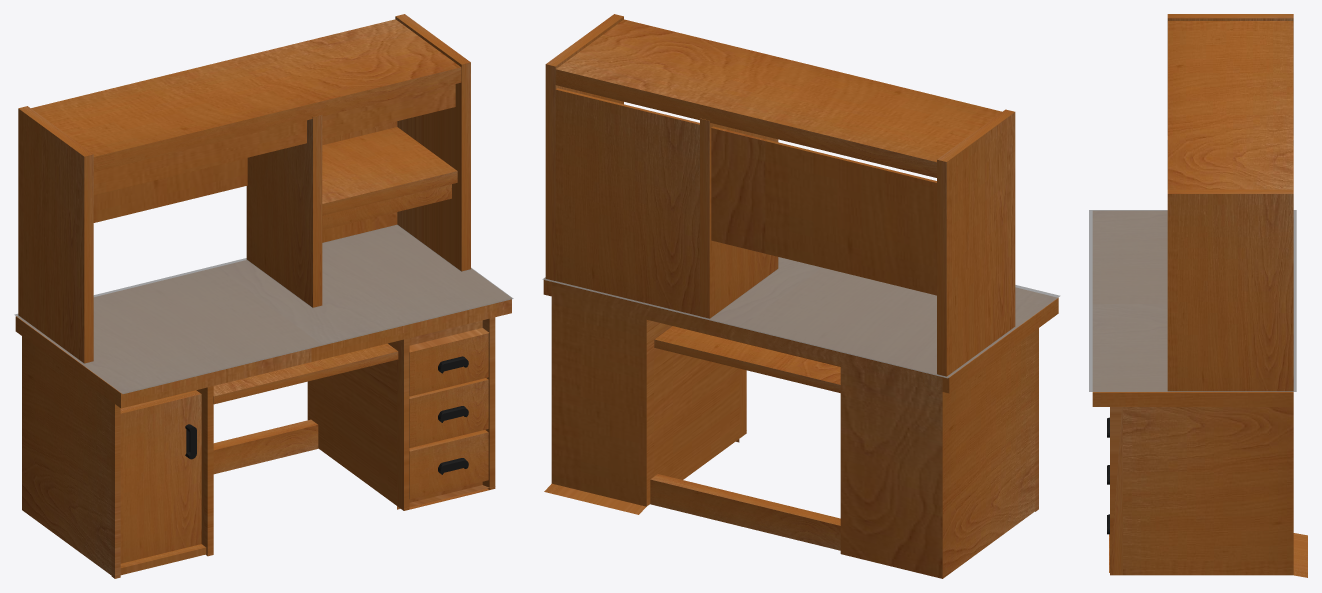
File: comp_desk.obj
3 views of the same model, side by side, from view 1: azimuth 30°, elevation 25°; view 2: azimuth 150°, elevation 25°; view 3: azimuth 270°, elevation 25° (orthographic). The views are drawn at different scales.
Parts seen in each view (by area): view 1: Desk_Main_, tabletop, Glass, Box14, Box06, Box07, Box08, Box09, Box11, Box13, Box02, Box03 (+5 smaller); view 2: Desk_Main_, Box14, Box12, Box13, tabletop, Box06, Glass, Box04, Box07, Box05, Box08; view 3: Desk_Main_, Box08, Box14, tabletop, Glass, Box06.
Part boxes in pixels (x1=…): Desk_Main_: x1=22, y1=317, x2=495, y2=578; tabletop: x1=15, y1=226, x2=511, y2=408; Glass: x1=14, y1=224, x2=513, y2=393; Box14: x1=31, y1=19, x2=461, y2=171; Box06: x1=18, y1=106, x2=93, y2=363; Box07: x1=246, y1=115, x2=322, y2=307; Box08: x1=395, y1=14, x2=470, y2=271; Box09: x1=93, y1=84, x2=455, y2=194; Box11: x1=322, y1=127, x2=457, y2=215; Box13: x1=93, y1=158, x2=247, y2=222; Box02: x1=409, y1=378, x2=488, y2=447; Box03: x1=409, y1=430, x2=488, y2=499; Desk_Main_: x1=544, y1=282, x2=1038, y2=578; Box14: x1=555, y1=19, x2=1001, y2=177; Box12: x1=555, y1=88, x2=699, y2=316; Box13: x1=711, y1=126, x2=936, y2=295; tabletop: x1=543, y1=257, x2=1058, y2=393; Box06: x1=937, y1=109, x2=1015, y2=376; Glass: x1=542, y1=257, x2=1060, y2=378; Box04: x1=650, y1=474, x2=840, y2=550; Box07: x1=700, y1=118, x2=778, y2=318; Box05: x1=654, y1=326, x2=840, y2=392; Box08: x1=545, y1=14, x2=623, y2=280; Desk_Main_: x1=1109, y1=407, x2=1307, y2=577; Box08: x1=1167, y1=189, x2=1293, y2=391; Box14: x1=1168, y1=21, x2=1293, y2=189; tabletop: x1=1092, y1=211, x2=1293, y2=406; Glass: x1=1089, y1=210, x2=1296, y2=391; Box06: x1=1167, y1=14, x2=1293, y2=135.
Size of what is drawn, in the model's own units: 180 by 179 by 91.5.
3 materials, 1 textured.
